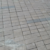others: (1, 1, 49, 49)
